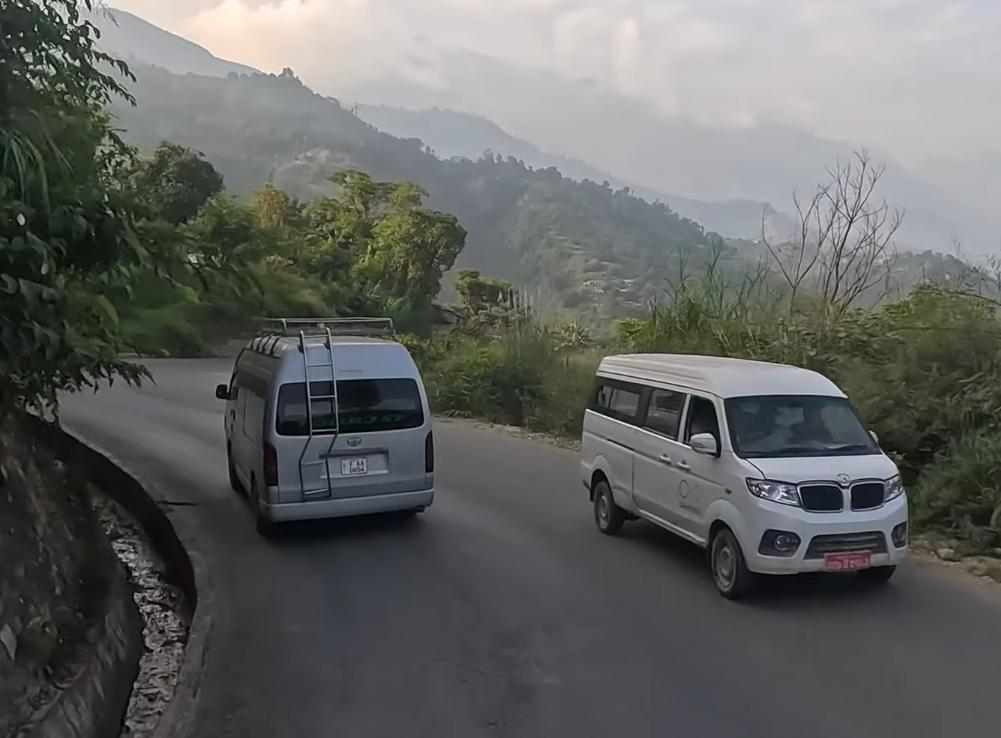micro_bus: (576, 347, 912, 601), (207, 307, 441, 542)
